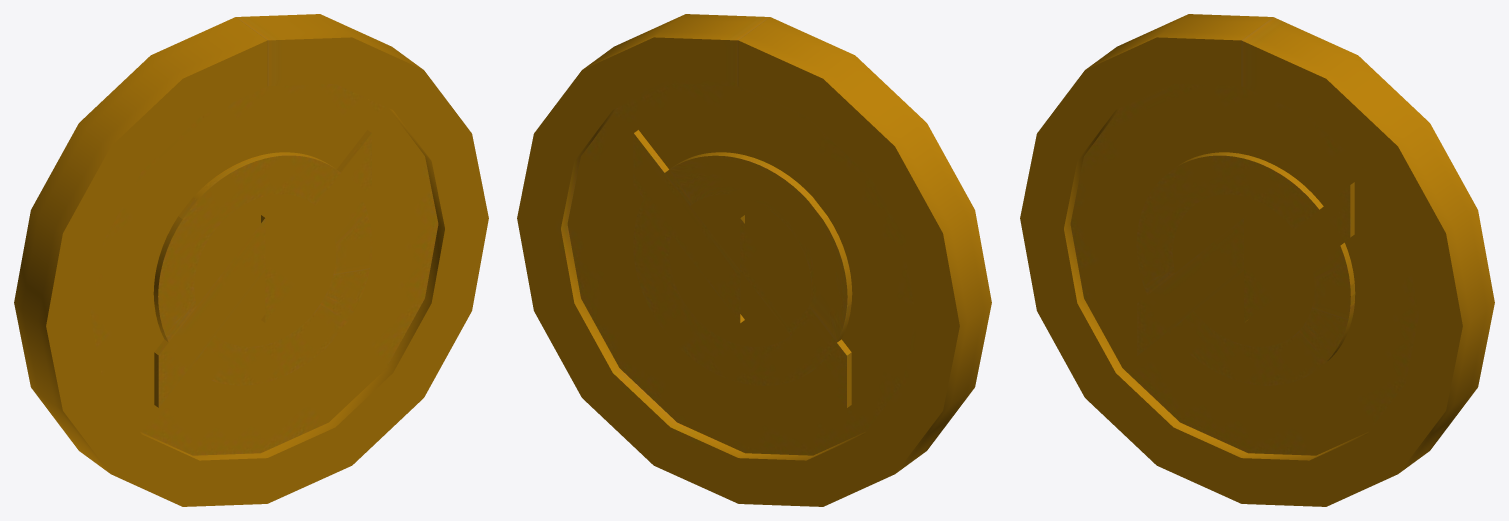
Rendered from Coin.gltf.
3 views of the same model, side by side, from view 1: azimuth 30°, elevation 25°; view 2: azimuth 150°, elevation 25°; view 3: azimuth 330°, elevation 25° (orthographic).
Visible parts, largest first — view 1: Extrude.1; view 2: Extrude.1; view 3: Extrude.1.
Boxes of the visible parts, bbox=[...] form: Extrude.1: bbox=[14, 14, 488, 506]; Extrude.1: bbox=[517, 14, 991, 506]; Extrude.1: bbox=[1020, 14, 1494, 506].
Size of the model in its own units: 100 by 100 by 12.52.
Materials: 1 (1 with a texture image).
